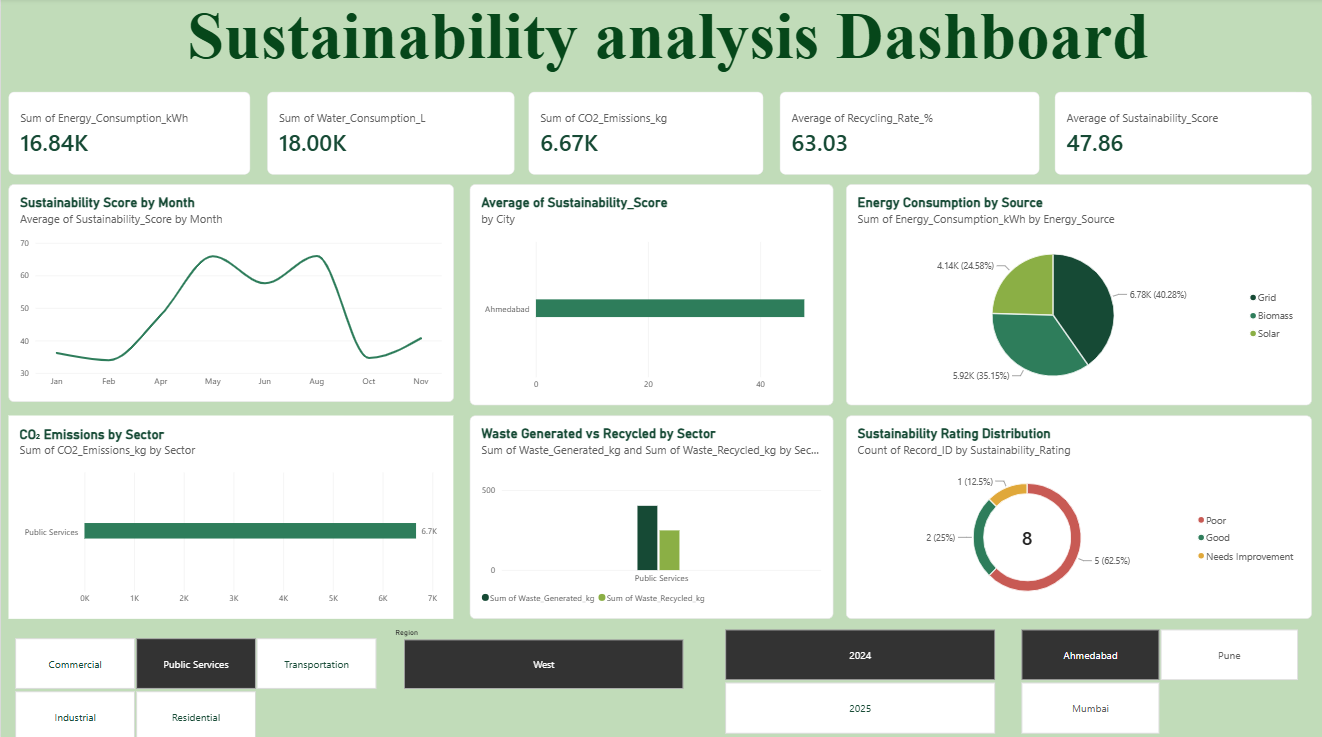

This screenshot's page, from the dashboard's own definition file:
{"tool":"powerbi","page":{"name":"Page 1","canvas":[1920,1080],"ordinal":0},"visuals":[{"type":"cardVisual","fields":{"Data":["Sum(Sustainability_Data.Energy_Consumption_kWh)"]},"box":[10,136,350,120],"z":0},{"type":"cardVisual","fields":{"Data":["Sum(Sustainability_Data.Water_Consumption_L)"]},"box":[386,136,358,120],"z":1000},{"type":"cardVisual","fields":{"Data":["Sum(Sustainability_Data.CO2_Emissions_kg)"]},"box":[764,136,340,120],"z":2000},{"type":"cardVisual","fields":{"Data":["Avg(Sustainability_Data.Recycling_Rate_%)"]},"box":[1128,136,376,120],"z":3000},{"type":"cardVisual","fields":{"Data":["Avg(Sustainability_Data.Sustainability_Score)"]},"box":[1526,136,372,120],"z":4000},{"type":"lineChart","title":"Sustainability Score by Month","fields":{"Category":["Sustainability_Data.Month"],"Y":["Avg(Sustainability_Data.Sustainability_Score)"]},"box":[10,270,644.4,315.6],"z":5000},{"type":"pieChart","title":"Energy Consumption by Source","fields":{"Category":["Sustainability_Data.Energy_Source"],"Y":["Sum(Sustainability_Data.Energy_Consumption_kWh)"]},"box":[1224,270,674,320],"z":6000},{"type":"donutChart","title":"Sustainability Rating Distribution","fields":{"Category":["Sustainability_Data.Sustainability_Rating"],"Y":["CountNonNull(Sustainability_Data.Record_ID)"]},"box":[1224,604,674,294],"z":7000},{"type":"clusteredBarChart","title":"CO₂ Emissions by Sector","fields":{"Category":["Sustainability_Data.Sector"],"Y":["Sum(Sustainability_Data.CO2_Emissions_kg)"]},"box":[10,604,644,294],"z":8000},{"type":"clusteredColumnChart","title":"Waste Generated vs Recycled by Sector","fields":{"Category":["Sustainability_Data.Sector"],"Y":["Sum(Sustainability_Data.Waste_Generated_kg)","Sum(Sustainability_Data.Waste_Recycled_kg)"]},"box":[678,604,526,294],"z":9000},{"type":"clusteredBarChart","fields":{"Category":["Sustainability_Data.City"],"Y":["Avg(Sustainability_Data.Sustainability_Score)"]},"box":[678,270,526,320],"z":10000},{"type":"slicer","fields":{"Values":["Sustainability_Data.Year"]},"box":[1027.5,912.5,430,155],"z":11000},{"type":"slicer","fields":{"Values":["Sustainability_Data.City"]},"box":[1457.5,912.5,440,155],"z":12000},{"type":"slicer","fields":{"Values":["Sustainability_Data.Sector"]},"box":[0,925,562.5,155],"z":13000},{"type":"textbox","box":[10,0,1910,112],"z":14000},{"type":"slicer","fields":{"Values":["Sustainability_Data.Region"]},"box":[562,912,444,90],"z":15000}]}

Visuals, with their boxes in screenshot pixels (x1, y1, x2, y2), scaled from the page's 1920x1080 canvas onto the 1322x737 screenshot:
cardVisual - Sum(Sustainability_Data.Energy_Consumption_kWh): (7,93,248,175)
cardVisual - Sum(Sustainability_Data.Water_Consumption_L): (266,93,512,175)
cardVisual - Sum(Sustainability_Data.CO2_Emissions_kg): (526,93,760,175)
cardVisual - Avg(Sustainability_Data.Recycling_Rate_%): (777,93,1036,175)
cardVisual - Avg(Sustainability_Data.Sustainability_Score): (1051,93,1307,175)
"Sustainability Score by Month" lineChart: (7,184,451,400)
"Energy Consumption by Source" pieChart: (843,184,1307,403)
"Sustainability Rating Distribution" donutChart: (843,412,1307,613)
"CO₂ Emissions by Sector" clusteredBarChart: (7,412,450,613)
"Waste Generated vs Recycled by Sector" clusteredColumnChart: (467,412,829,613)
clusteredBarChart - Sustainability_Data.City x Avg(Sustainability_Data.Sustainability_Score): (467,184,829,403)
slicer - Sustainability_Data.Year: (707,623,1004,728)
slicer - Sustainability_Data.City: (1004,623,1307,728)
slicer - Sustainability_Data.Sector: (0,631,387,736)
textbox: (7,0,1321,76)
slicer - Sustainability_Data.Region: (387,622,693,684)
